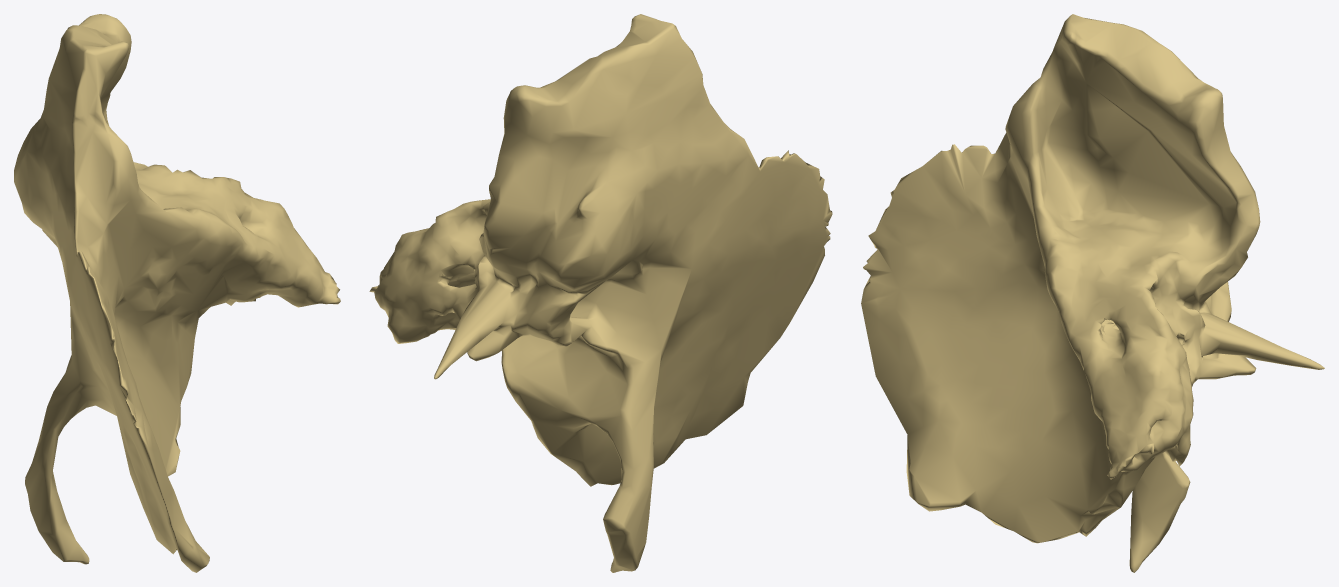
3 renders of one model, left to right at view 1: azimuth 30°, elevation 25°; view 2: azimuth 150°, elevation 25°; view 3: azimuth 270°, elevation 25°, orthographic. The views are drawn at different scales.
Parts seen in each view (by area): view 1: 右侧颞骨; view 2: 右侧颞骨; view 3: 右侧颞骨.
Boxes of the visible parts, x1=… form: 右侧颞骨: x1=14, y1=14, x2=340, y2=572; 右侧颞骨: x1=369, y1=14, x2=832, y2=572; 右侧颞骨: x1=861, y1=14, x2=1324, y2=572.
Bounding box in the file's own units: 0.0925 × 0.142 × 0.1097.
